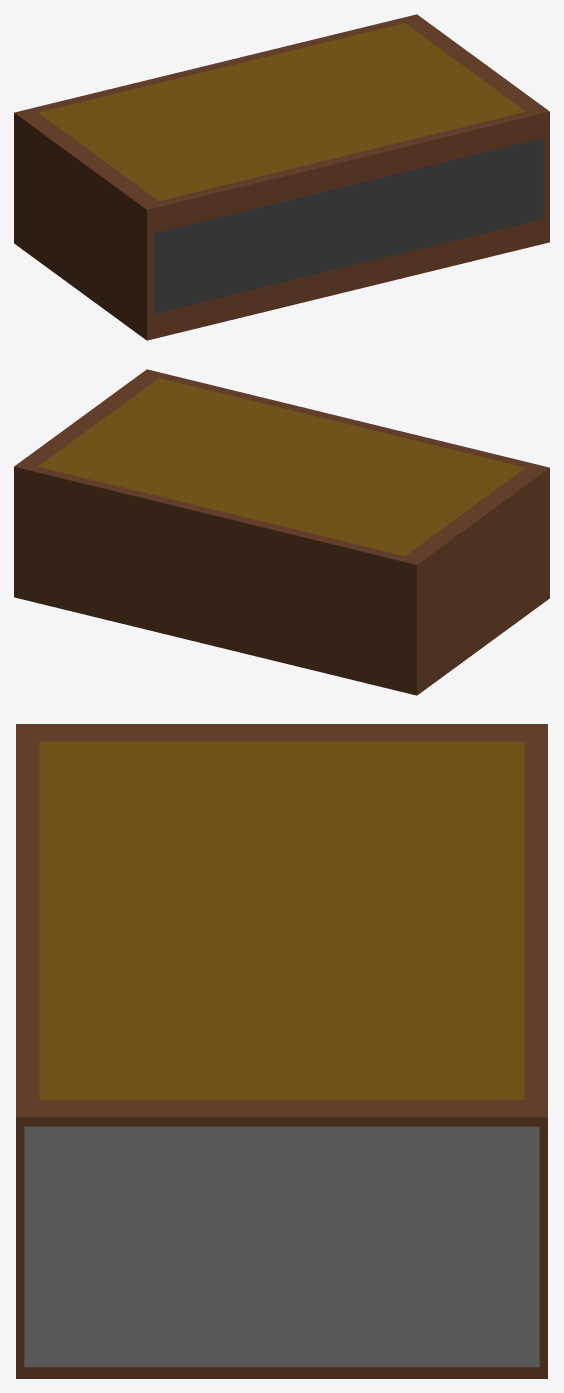
Rendered from matchbox01.gltf.
3 renders of one model, top to bottom at view 1: azimuth 30°, elevation 25°; view 2: azimuth 150°, elevation 25°; view 3: azimuth 270°, elevation 25°, orthographic. The views are drawn at different scales.
Parts seen in each view (by area): view 1: Cube; view 2: Cube; view 3: Cube.
Part boxes in pixels (bbox=[...]): Cube: bbox=[14, 14, 549, 340]; Cube: bbox=[14, 369, 549, 695]; Cube: bbox=[16, 724, 547, 1378].
Size of the model in its own units: 0.07 by 0.0217 by 0.04.
Materials: 1 (1 with a texture image).
